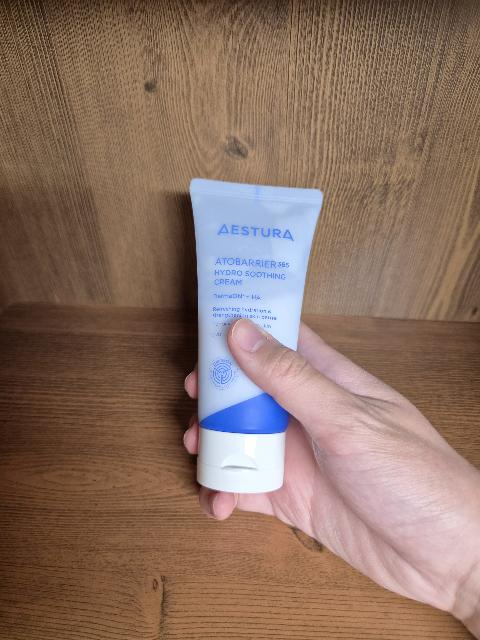handcream: (190, 178, 323, 494)
